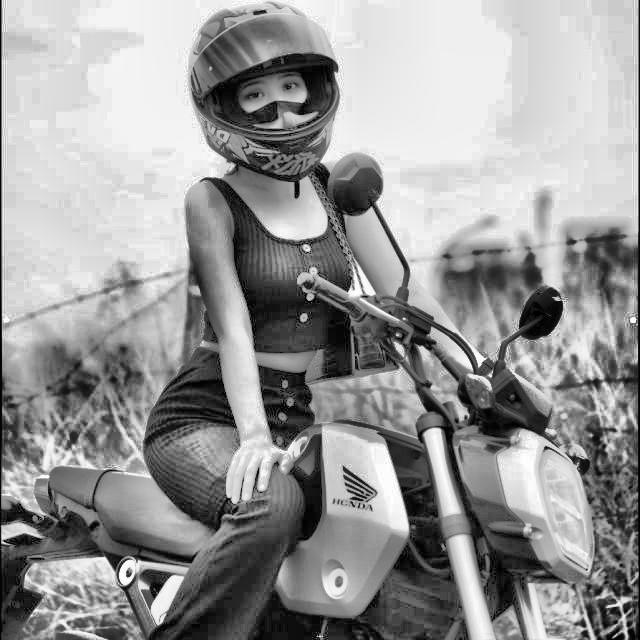Helmet: (182, 0, 346, 188)
